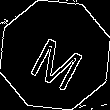M_NE: (23, 22, 87, 88)
